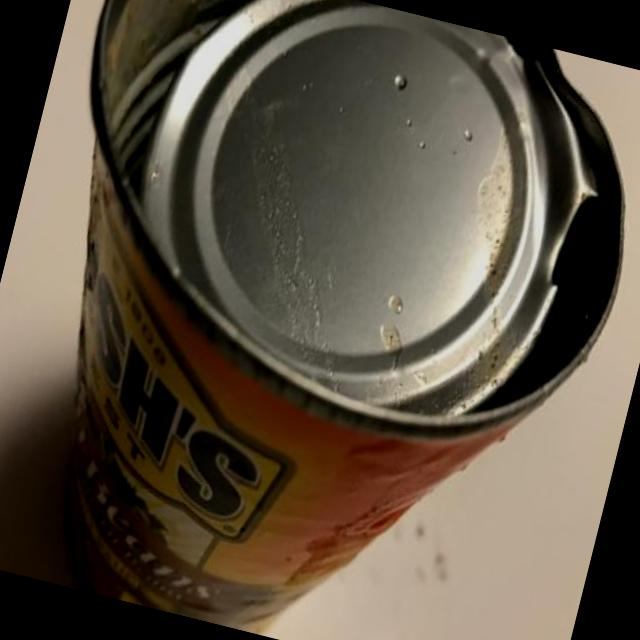kim_loai: (63, 0, 622, 631)
